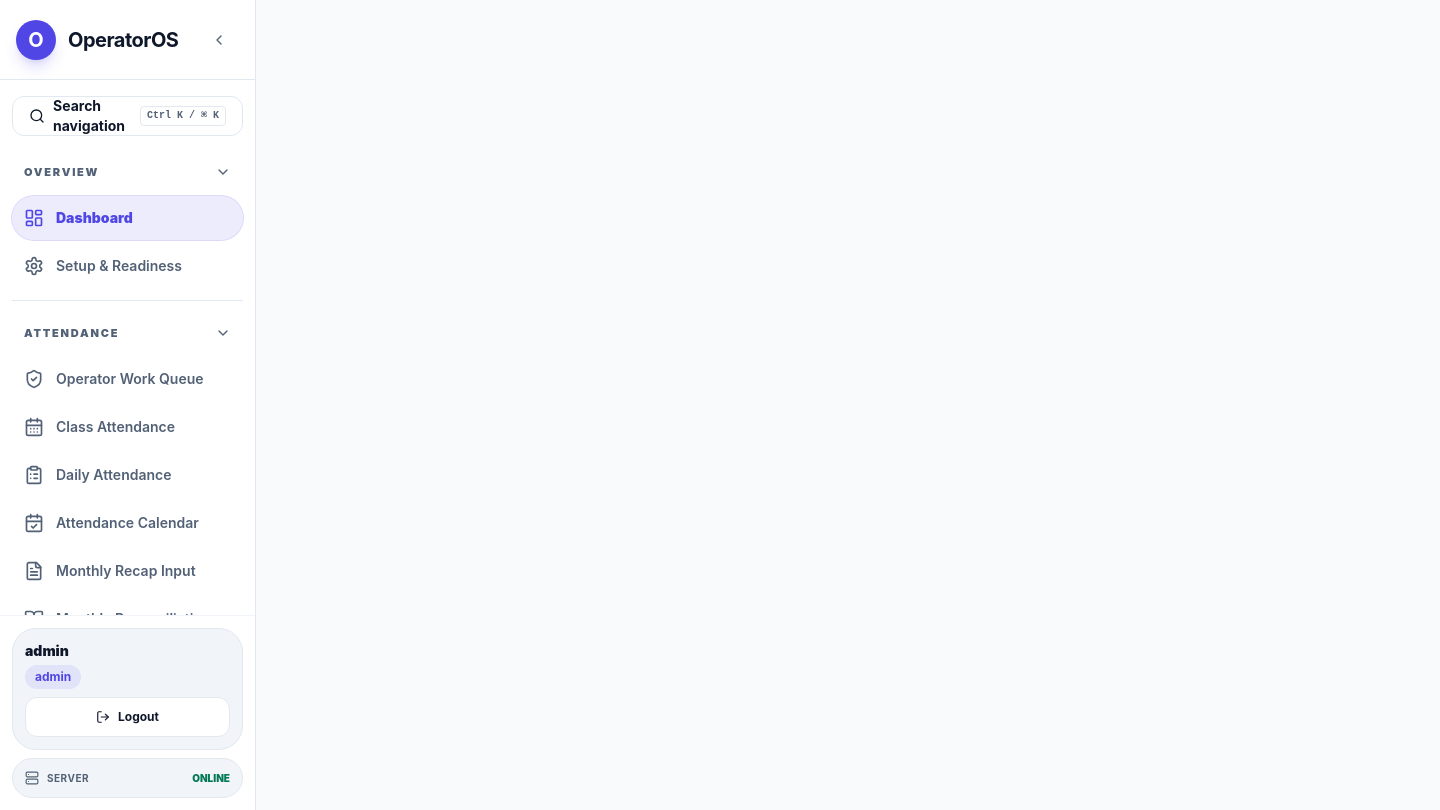
role-aware sidebar navigation › reports an unconfirmed logout after a network failure without hiding the authenticated shell
The width and height of the screenshot is (1440, 810).
Click the button with aria-label "Logout" at (128, 717), box [25, 697, 230, 737]
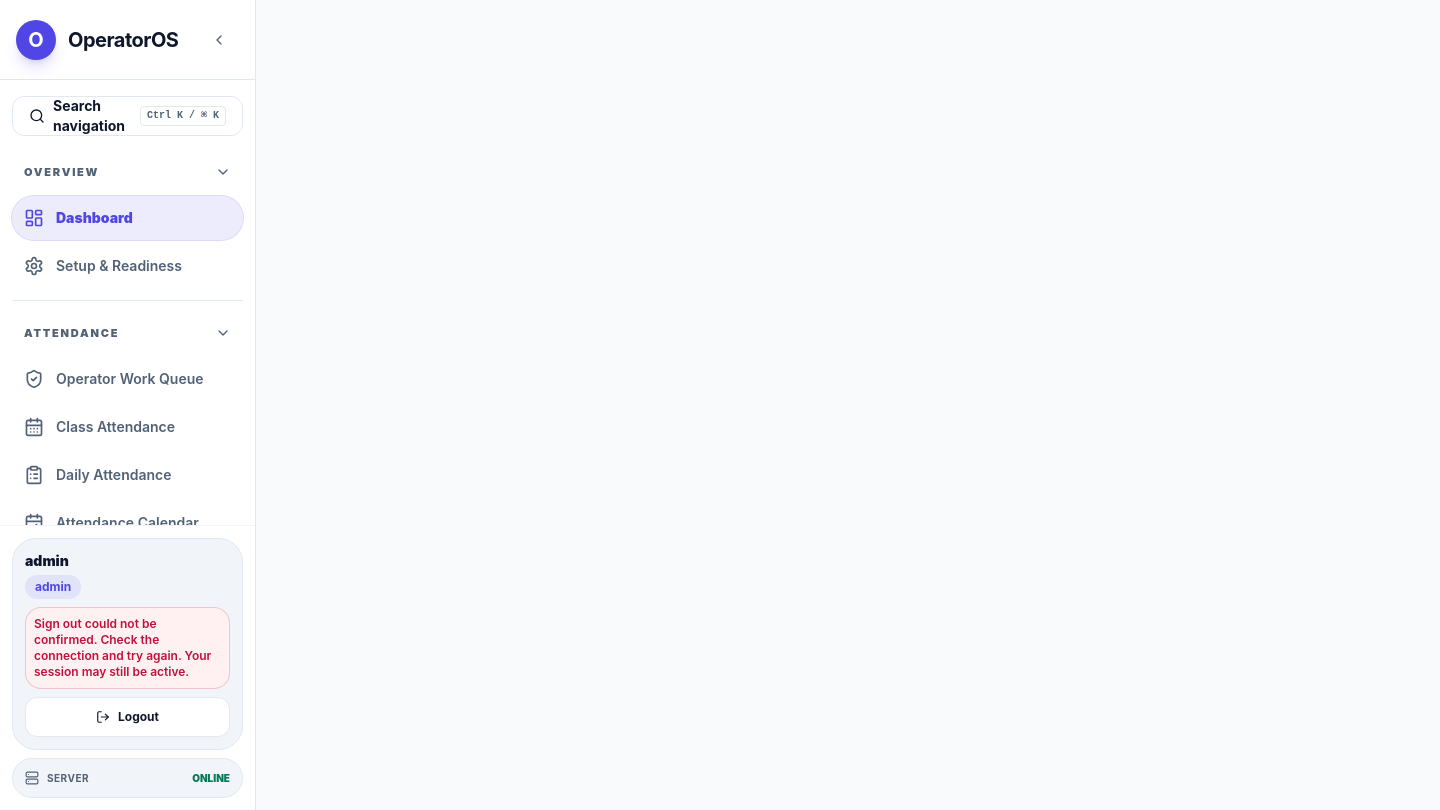
Expected: the message shows "Sign out could not be confirmed", [34, 616, 211, 679]
Expected: the message shows "session may still be active", [34, 616, 211, 679]
Expected: the message shows "Check the connection", [34, 616, 211, 679]
